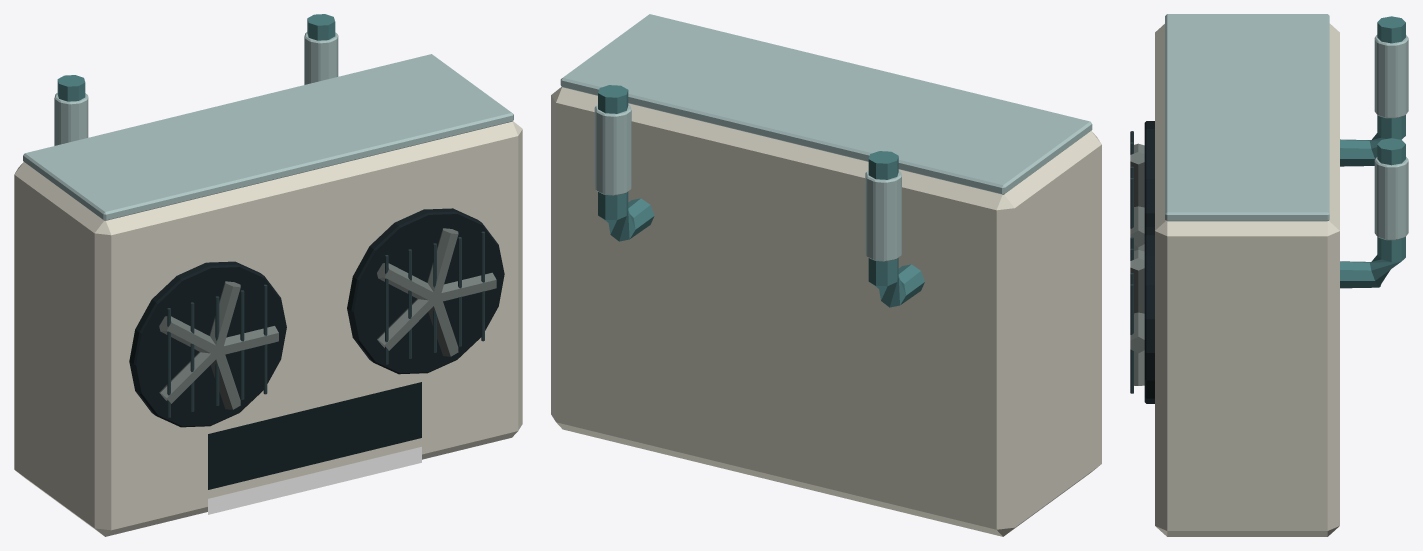
The model's file is refrigeration-unit.glb.
3 renders of one model, left to right at view 1: azimuth 30°, elevation 25°; view 2: azimuth 150°, elevation 25°; view 3: azimuth 270°, elevation 25°, orthographic. The views are drawn at different scales.
Parts seen in each view (by area): view 1: refrigeration-unit__refrigeration-unit__ivory, refrigeration-unit__refrigeration-unit__frost, refrigeration-unit__refrigeration-unit__rubber, refrigeration-unit__refrigeration-unit__decal-indigo, refrigeration-unit__refrigeration-unit__hardware, refrigeration-unit__refrigeration-unit__steel, refrigeration-unit__refrigeration-unit__decal-hazard, refrigeration-unit__refrigeration-unit__petrol; view 2: refrigeration-unit__refrigeration-unit__ivory, refrigeration-unit__refrigeration-unit__frost, refrigeration-unit__refrigeration-unit__petrol; view 3: refrigeration-unit__refrigeration-unit__ivory, refrigeration-unit__refrigeration-unit__frost, refrigeration-unit__refrigeration-unit__petrol, refrigeration-unit__refrigeration-unit__rubber, refrigeration-unit__refrigeration-unit__hardware, refrigeration-unit__refrigeration-unit__steel.
Boxes of the visible parts, box(x1,y1,x2,y2) form: refrigeration-unit__refrigeration-unit__ivory: box(14, 121, 522, 536); refrigeration-unit__refrigeration-unit__frost: box(23, 32, 513, 220); refrigeration-unit__refrigeration-unit__rubber: box(129, 208, 504, 427); refrigeration-unit__refrigeration-unit__decal-indigo: box(208, 382, 421, 489); refrigeration-unit__refrigeration-unit__hardware: box(159, 228, 496, 409); refrigeration-unit__refrigeration-unit__steel: box(167, 231, 484, 417); refrigeration-unit__refrigeration-unit__decal-hazard: box(208, 447, 421, 514); refrigeration-unit__refrigeration-unit__petrol: box(57, 14, 335, 101); refrigeration-unit__refrigeration-unit__ivory: box(551, 86, 1101, 536); refrigeration-unit__refrigeration-unit__frost: box(560, 14, 1092, 261); refrigeration-unit__refrigeration-unit__petrol: box(598, 85, 924, 307); refrigeration-unit__refrigeration-unit__ivory: box(1155, 23, 1339, 536); refrigeration-unit__refrigeration-unit__frost: box(1165, 14, 1408, 240); refrigeration-unit__refrigeration-unit__petrol: box(1340, 16, 1405, 288); refrigeration-unit__refrigeration-unit__rubber: box(1144, 121, 1154, 403); refrigeration-unit__refrigeration-unit__hardware: box(1130, 143, 1144, 385); refrigeration-unit__refrigeration-unit__steel: box(1130, 131, 1133, 393).
Bounding box in the file's own units: 2.4 × 1.9 × 1.35.
